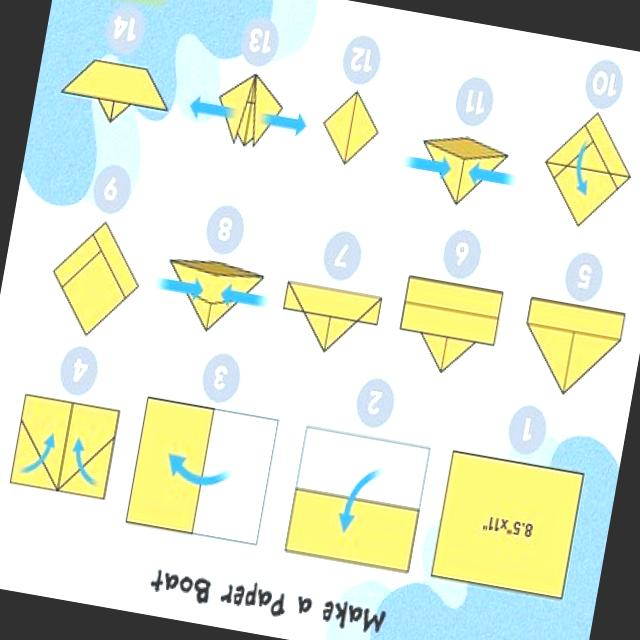arrow: (338, 468, 380, 531), (168, 452, 229, 485), (20, 433, 54, 472), (72, 438, 95, 483), (404, 155, 449, 177), (261, 112, 305, 134), (221, 284, 265, 306), (467, 162, 513, 183), (190, 96, 232, 117), (155, 278, 201, 296), (575, 142, 587, 195)
fold-line: (50, 425, 121, 496), (290, 481, 426, 518), (11, 410, 64, 496), (186, 397, 218, 538), (48, 387, 80, 500), (540, 154, 634, 184)
